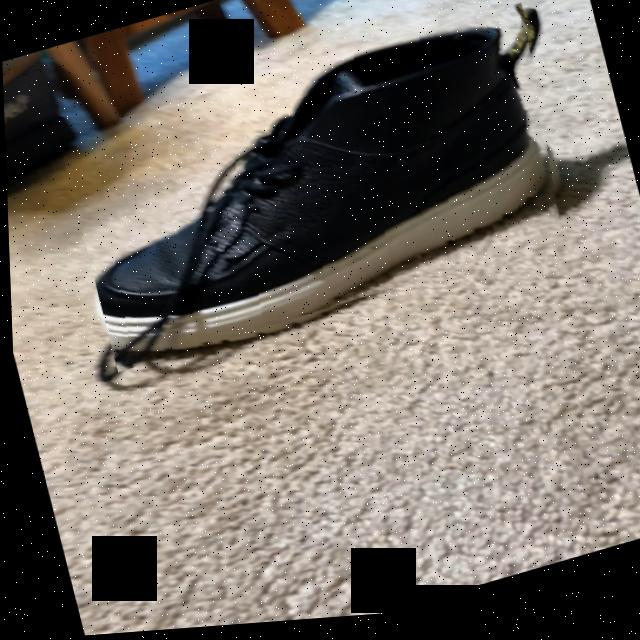shoe: (93, 28, 547, 355)
